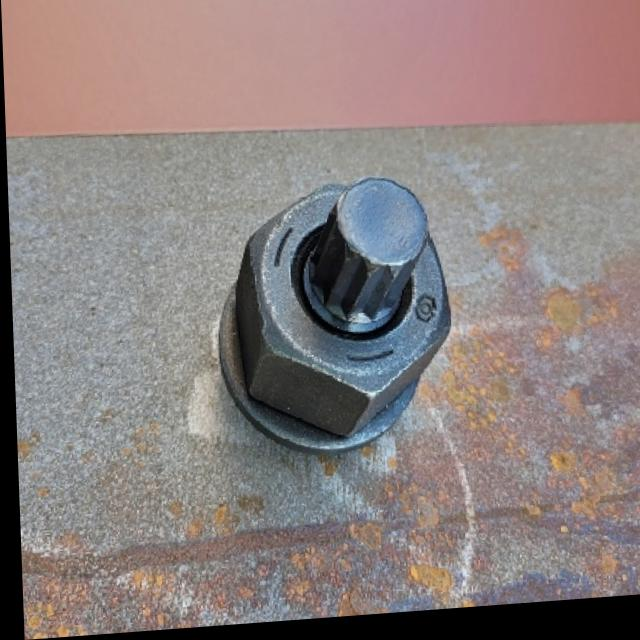Regular bolt: (207, 174, 468, 475)
